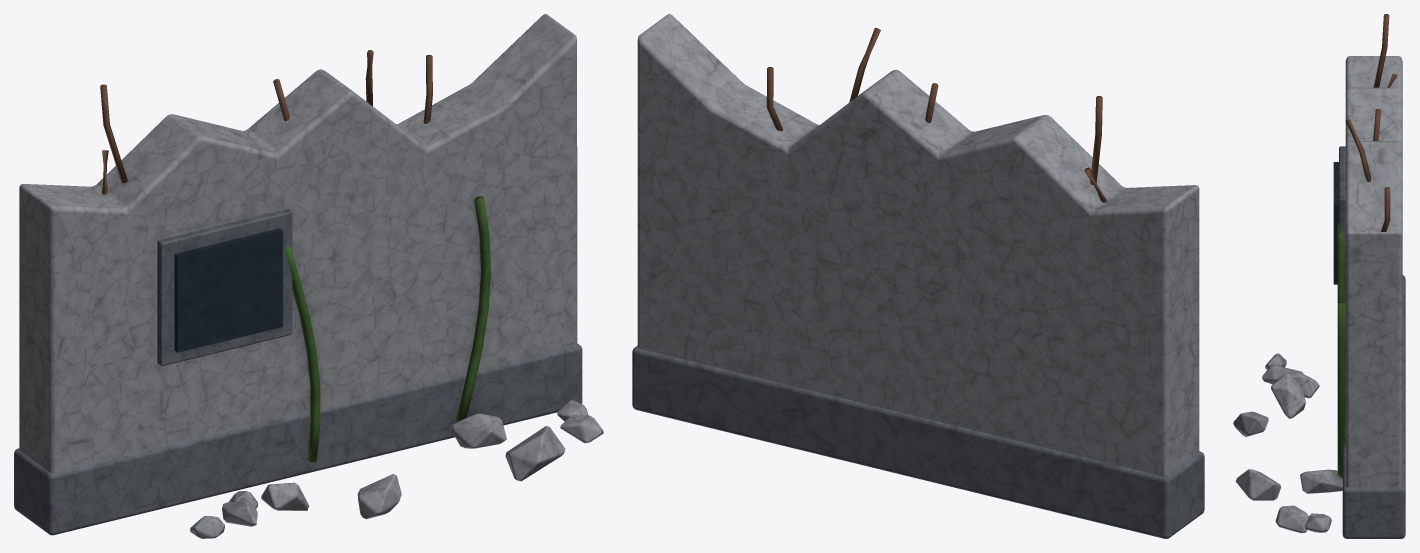
File: ruin_wall.glb
3 views of the same model, side by side, from view 1: azimuth 30°, elevation 25°; view 2: azimuth 150°, elevation 25°; view 3: azimuth 270°, elevation 25° (orthographic). The views are drawn at different scales.
Visible parts, largest first — view 1: Prop_ruin_wall; view 2: Prop_ruin_wall; view 3: Prop_ruin_wall.
Boxes of the visible parts, bbox=[...] form: Prop_ruin_wall: bbox=[14, 14, 603, 538]; Prop_ruin_wall: bbox=[632, 14, 1204, 538]; Prop_ruin_wall: bbox=[1233, 14, 1405, 538].
Bounding box in the file's own units: 4.05 × 3.03 × 1.37.
Materials: 5 (5 with a texture image).
